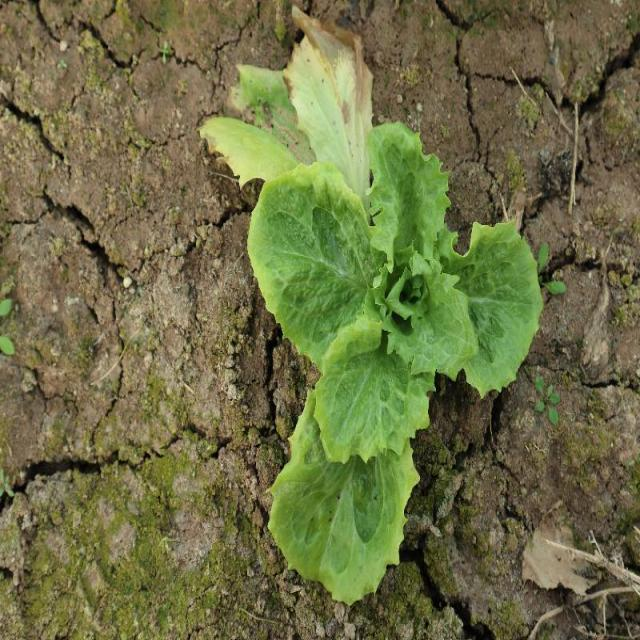crop: (249, 123, 544, 601)
